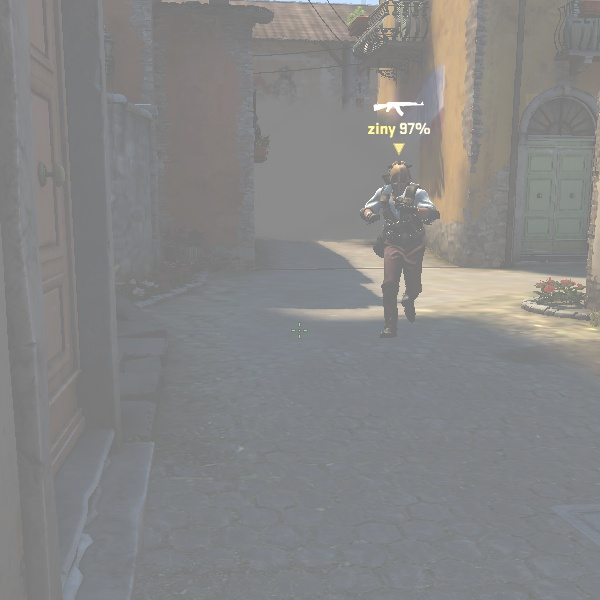t_body: (360, 165, 448, 342)
t_head: (378, 156, 419, 194)
